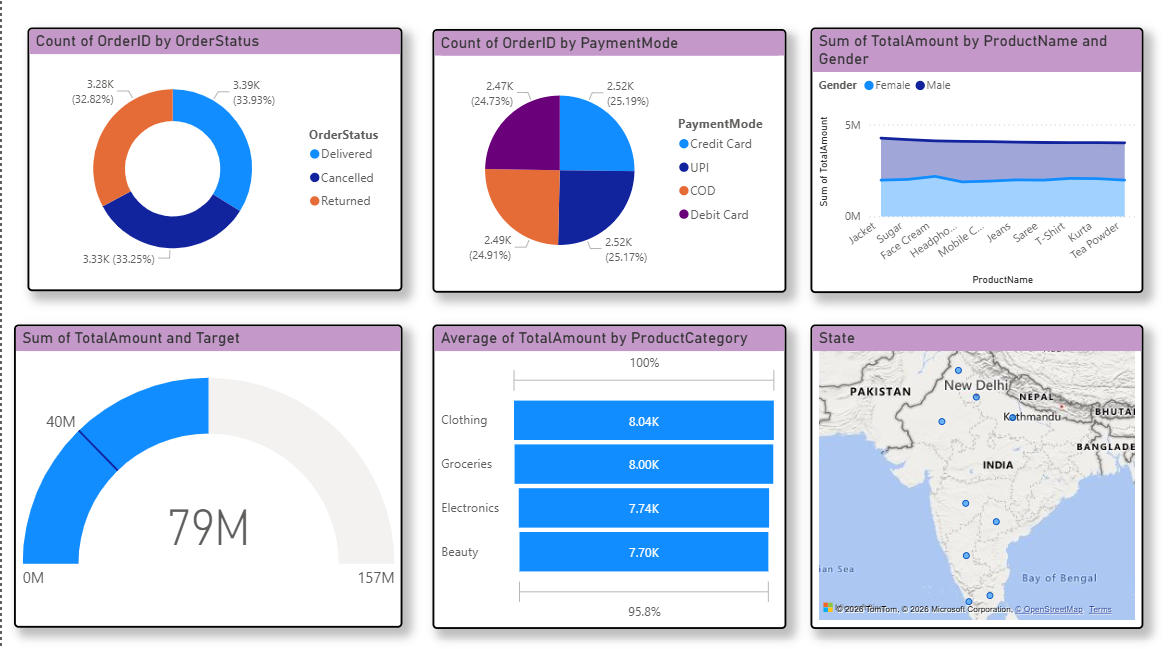

What the dashboard file says about the page in this screenshot:
{"tool":"powerbi","page":{"name":"Page 2","canvas":[1280,720],"ordinal":1},"visuals":[{"type":"donutChart","fields":{"Y":["CountNonNull(powerbi_retail_10000_rows.OrderID)"],"Category":["powerbi_retail_10000_rows.OrderStatus"]},"box":[27.5,37.2,404.8,285],"z":0},{"type":"pieChart","fields":{"Category":["powerbi_retail_10000_rows.PaymentMode"],"Y":["CountNonNull(powerbi_retail_10000_rows.OrderID)"]},"box":[464.7,38.9,382.1,285],"z":1000},{"type":"stackedAreaChart","fields":{"Category":["powerbi_retail_10000_rows.Gender"],"Series":["powerbi_retail_10000_rows.ProductName"],"Y":["Sum(powerbi_retail_10000_rows.TotalAmount)"]},"box":[872.8,37.2,359.5,286.6],"z":2000},{"type":"gauge","fields":{"Y":["Sum(powerbi_retail_10000_rows.TotalAmount)"],"TargetValue":["powerbi_retail_10000_rows.Target"]},"box":[13,357.8,419.4,327.1],"z":3000},{"type":"funnel","fields":{"Y":["Sum(powerbi_retail_10000_rows.TotalAmount)"],"Category":["powerbi_retail_10000_rows.ProductCategory"]},"box":[464.7,357.8,382.1,328.7],"z":4000},{"type":"map","fields":{"Category":["powerbi_retail_10000_rows.State"]},"box":[872.8,357.8,359.5,328.7],"z":5000}]}

Visuals, with their boxes in screenshot pixels (x1, y1, x2, y2), scaled from the page's 1280x720 canvas onto the 1168x649 screenshot:
donutChart - CountNonNull(powerbi_retail_10000_rows.OrderID) x powerbi_retail_10000_rows.OrderStatus: left=25, top=34, right=394, bottom=290
pieChart - powerbi_retail_10000_rows.PaymentMode x CountNonNull(powerbi_retail_10000_rows.OrderID): left=424, top=35, right=773, bottom=292
stackedAreaChart - powerbi_retail_10000_rows.Gender x powerbi_retail_10000_rows.ProductName: left=796, top=34, right=1124, bottom=292
gauge - Sum(powerbi_retail_10000_rows.TotalAmount) x powerbi_retail_10000_rows.Target: left=12, top=323, right=395, bottom=617
funnel - Sum(powerbi_retail_10000_rows.TotalAmount) x powerbi_retail_10000_rows.ProductCategory: left=424, top=323, right=773, bottom=619
map - powerbi_retail_10000_rows.State: left=796, top=323, right=1124, bottom=619
